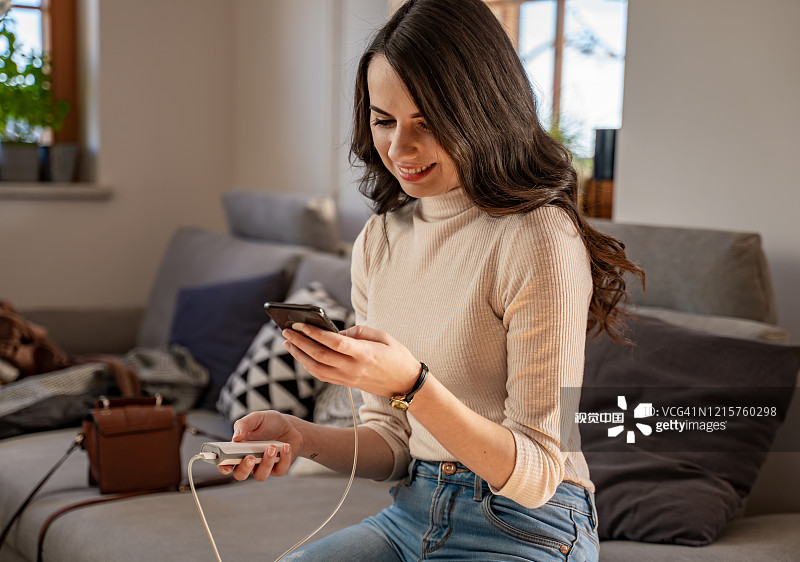no-phone: (190, 397, 320, 487)
reading: (248, 294, 440, 410)
